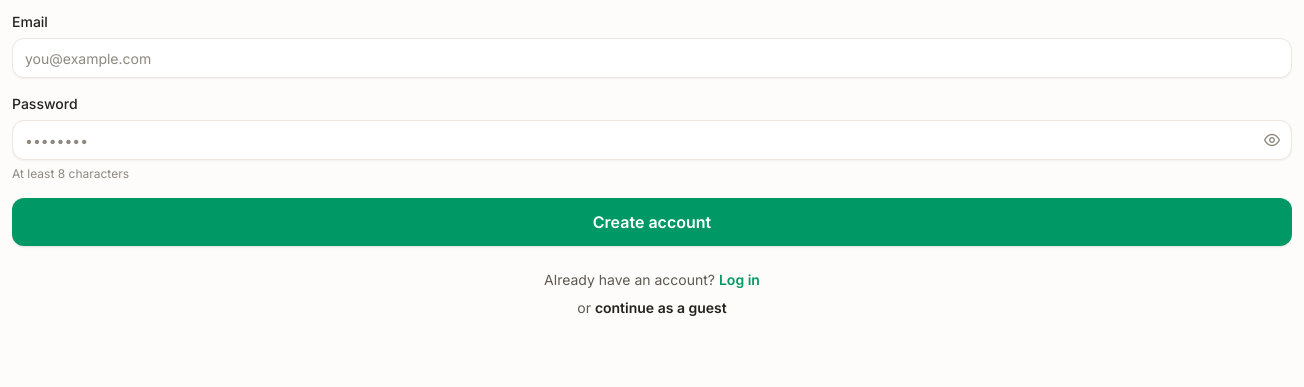
Test case: CredentialsForm › explains an email that is already registered
This screenshot has width=1304, height=387.
Type "me@example.com" into the field labelled "Email" at (652, 58), box x1=12 y1=38 x2=1292 y2=78
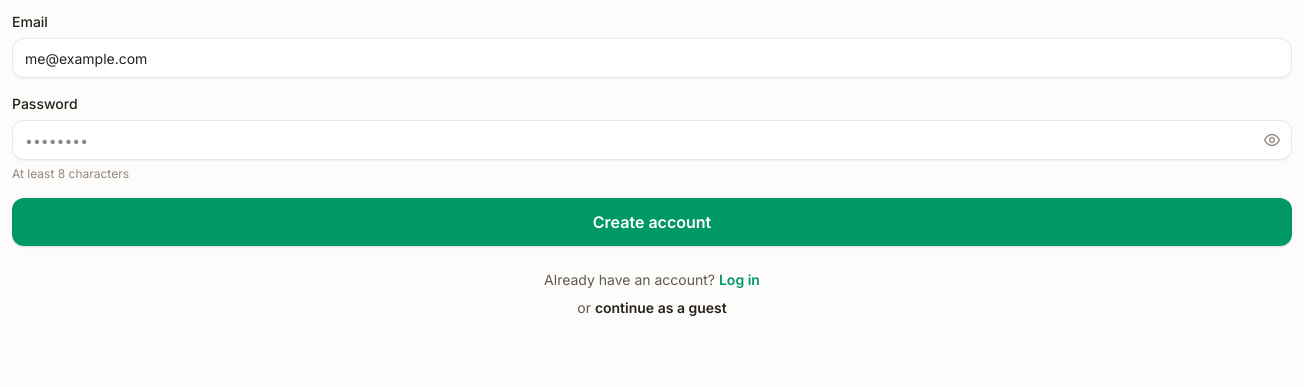
Type "secret123" into the password field labelled "Password" at (652, 140), box x1=12 y1=120 x2=1292 y2=160
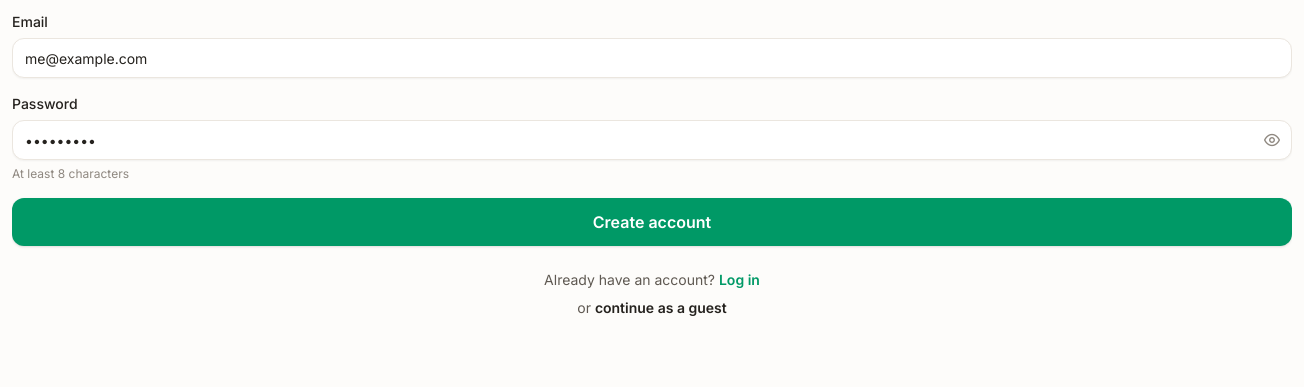
Submit the form, box x1=12 y1=12 x2=1292 y2=246
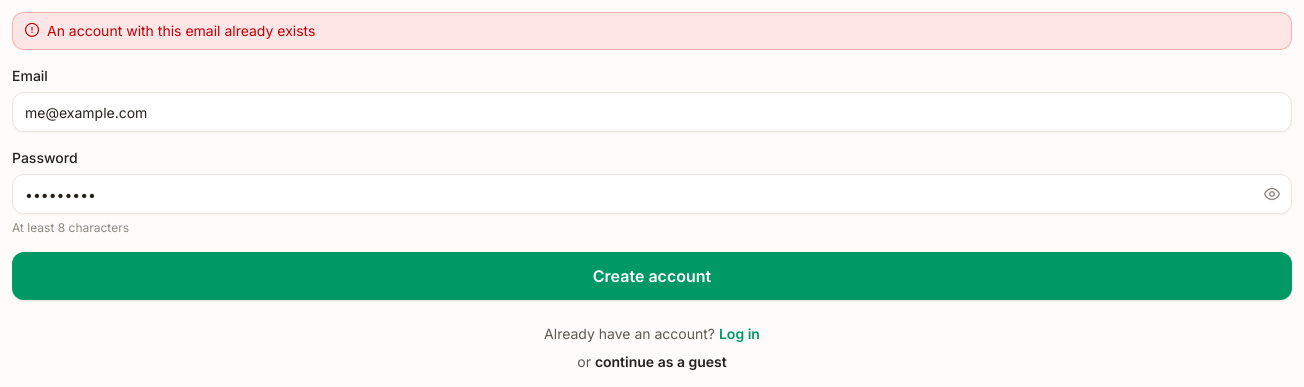
Expected: the message "An account with this email already exists" is shown, x1=12 y1=12 x2=1292 y2=50
